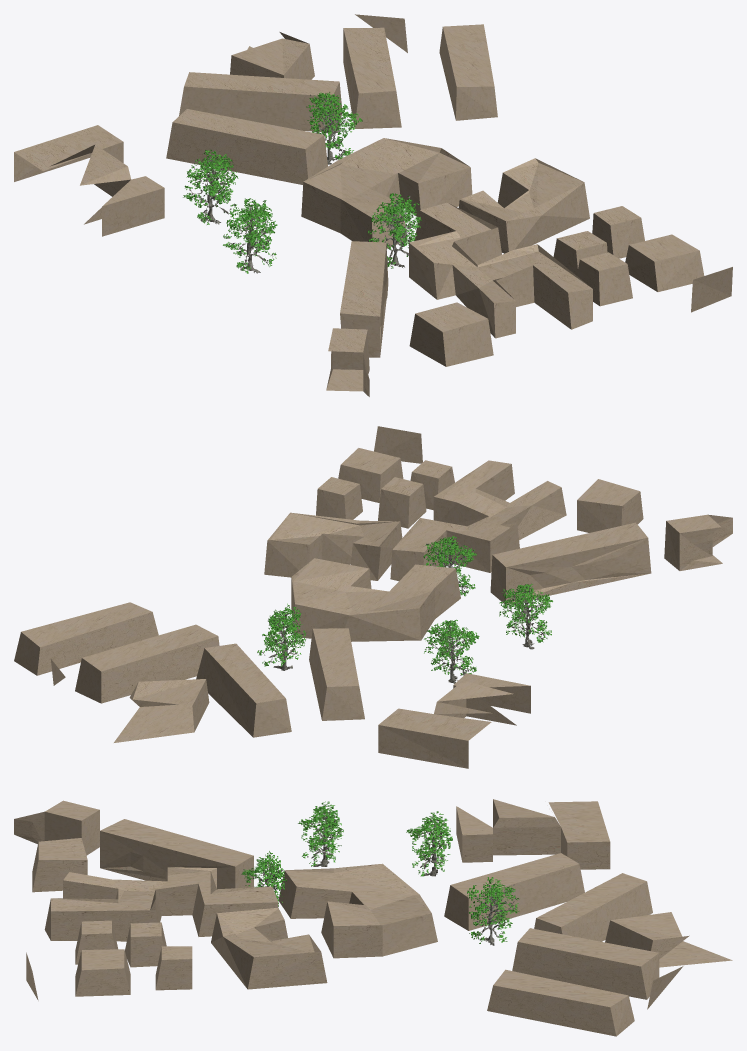
File: tile_1_0.gltf
3 views of the same model, one above another, from view 1: azimuth 30°, elevation 25°; view 2: azimuth 150°, elevation 25°; view 3: azimuth 270°, elevation 25° (orthographic). The views are drawn at different scales.
Visible parts, largest first — view 1: Plane.011@tile_1_0, Bodhi Tree_Bodhi_front_2_Mat_0.044@tile_1_0; view 2: Plane.011@tile_1_0, Bodhi Tree_Bodhi_front_2_Mat_0.044@tile_1_0; view 3: Plane.011@tile_1_0, Bodhi Tree_Bodhi_front_2_Mat_0.044@tile_1_0.
Part boxes in pixels (x1,y1,x2,y2): Plane.011@tile_1_0: (14,14,732,396); Bodhi Tree_Bodhi_front_2_Mat_0.044@tile_1_0: (183,92,421,273); Plane.011@tile_1_0: (14,426,732,768); Bodhi Tree_Bodhi_front_2_Mat_0.044@tile_1_0: (257,536,552,683); Plane.011@tile_1_0: (14,799,732,1036); Bodhi Tree_Bodhi_front_2_Mat_0.044@tile_1_0: (241,801,519,945).
Bounding box in the file's own units: 74.14 × 10.61 × 105.
3 materials, 2 textured.
